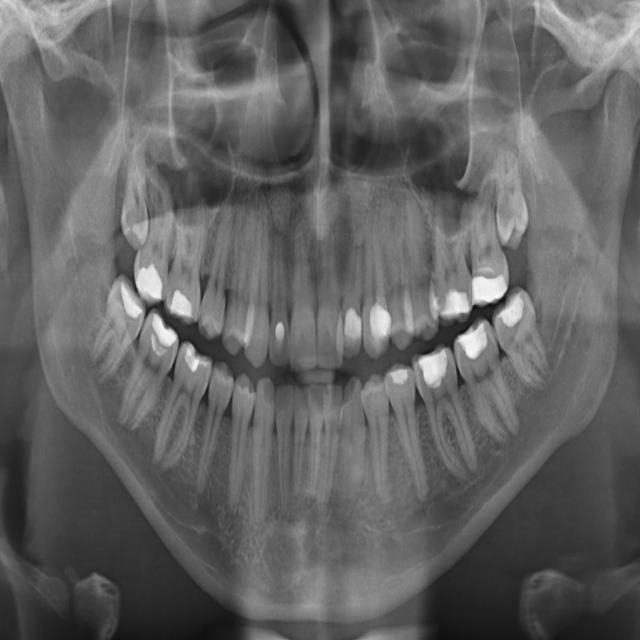CompositeResinRestoration: (419, 345, 447, 392), (456, 321, 488, 362), (498, 290, 528, 330), (150, 310, 177, 354), (137, 260, 164, 301), (438, 290, 472, 322), (472, 272, 506, 302), (370, 302, 392, 343), (170, 284, 192, 324), (120, 282, 142, 322), (345, 308, 364, 351), (185, 339, 203, 376), (390, 363, 409, 392), (276, 314, 286, 348)
ImpactedTooth: (496, 159, 530, 251), (122, 160, 149, 252)
